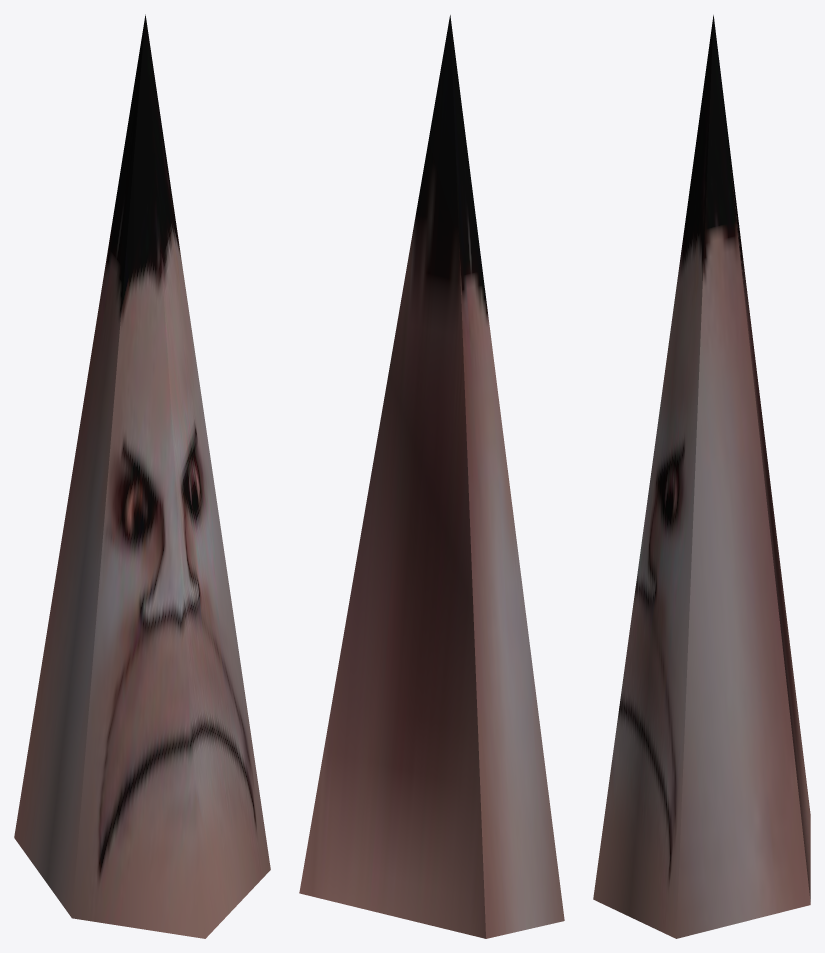
3 views of the same model, side by side, from view 1: azimuth 30°, elevation 25°; view 2: azimuth 150°, elevation 25°; view 3: azimuth 270°, elevation 25° (orthographic). The views are drawn at different scales.
Parts seen in each view (by area): view 1: pencilpusher; view 2: pencilpusher; view 3: pencilpusher.
Part boxes in pixels (x1,y1,x2,y2): pencilpusher: (14, 14, 270, 938); pencilpusher: (299, 15, 564, 938); pencilpusher: (593, 15, 810, 938).
Bounding box in the file's own units: 0.6318 × 2.67 × 0.5958.
Materials: 1 (1 with a texture image).
